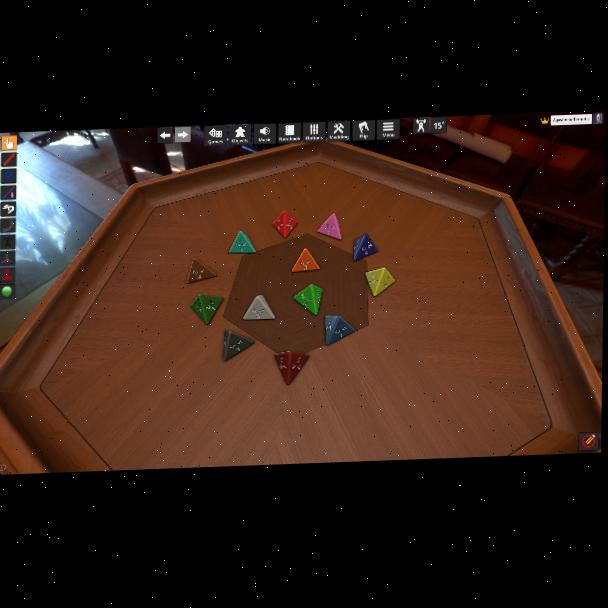d4: (273, 350, 308, 386), (222, 328, 252, 362), (292, 284, 323, 316), (191, 294, 222, 325), (326, 314, 356, 346), (367, 268, 396, 298), (243, 295, 275, 321), (186, 257, 216, 284), (272, 210, 297, 239), (316, 214, 341, 242), (291, 248, 319, 273), (353, 234, 377, 263), (230, 230, 256, 254)
